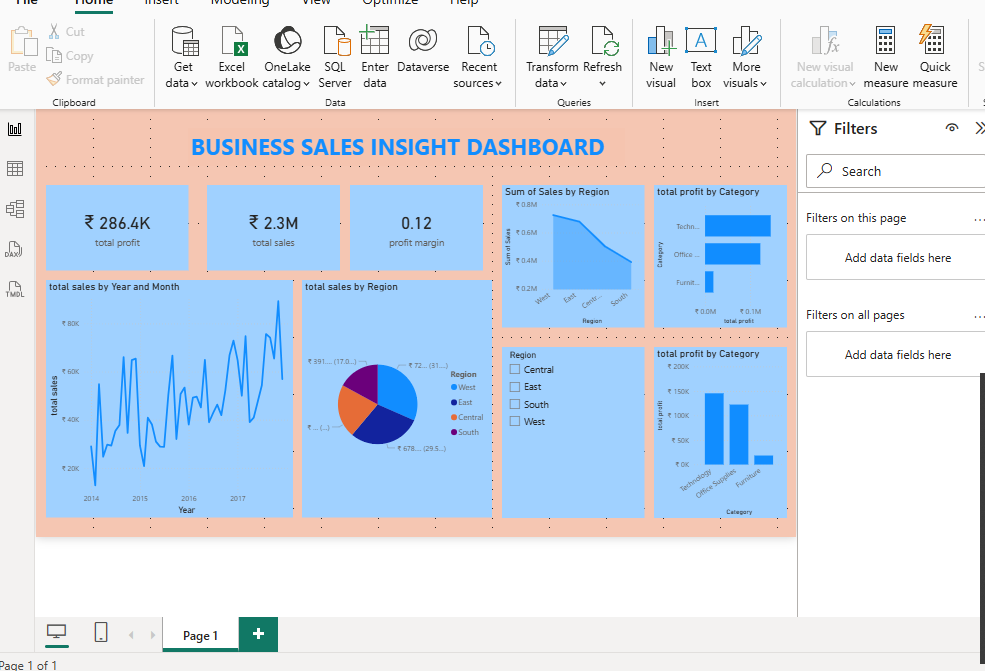

The dashboard page shown, as its layout file describes it:
{"tool":"powerbi","page":{"name":"Page 1","canvas":[1280,720],"ordinal":0},"visuals":[{"type":"pieChart","fields":{"Category":["dim_geography.Region"],"Y":["dim_customers.total sales"]},"box":[448,288,320,400],"z":1000},{"type":"card","fields":{"Values":["dim_customers.total profit"]},"box":[16,128,240,144],"z":2000},{"type":"card","fields":{"Values":["dim_customers.total sales"]},"box":[288,128,224,144],"z":3000},{"type":"card","fields":{"Values":["dim_customers.profit margin"]},"box":[528,128,224,144],"z":4000},{"type":"textbox","box":[256,32,736,64],"z":5000},{"type":"columnChart","fields":{"Y":["dim_customers.total profit"],"Category":["dim_product.Category"]},"box":[1040,400,224,288],"z":6000},{"type":"lineChart","fields":{"Category":["dim_date.Order Date.Variation.Date Hierarchy.Year","dim_date.Order Date.Variation.Date Hierarchy.Month"],"Y":["dim_customers.total sales"]},"box":[16,288,416,400],"z":7000},{"type":"slicer","fields":{"Values":["dim_geography.Region"]},"box":[784,400,240,288],"z":8000},{"type":"stackedAreaChart","fields":{"Category":["dim_geography.Region"],"Y":["Sum(fact table.Sales)"]},"box":[784,128,240,240],"z":8002},{"type":"clusteredBarChart","fields":{"Category":["dim_product.Category"],"Y":["dim_customers.total profit"]},"box":[1040,128,224,240],"z":8003}]}

Visuals, with their boxes in screenshot pixels (x1, y1, x2, y2):
pieChart - dim_geography.Region x dim_customers.total sales: 358:229:601:532
card - dim_customers.total profit: 30:107:212:217
card - dim_customers.total sales: 237:107:407:217
card - dim_customers.profit margin: 419:107:589:217
textbox: 212:35:771:83
columnChart - dim_customers.total profit x dim_product.Category: 807:314:977:532
lineChart - dim_date.Order Date.Variation.Date Hierarchy.Year x dim_date.Order Date.Variation.Date Hierarchy.Month: 30:229:346:532
slicer - dim_geography.Region: 613:314:795:532
stackedAreaChart - dim_geography.Region x Sum(fact table.Sales): 613:107:795:290
clusteredBarChart - dim_product.Category x dim_customers.total profit: 807:107:977:290
